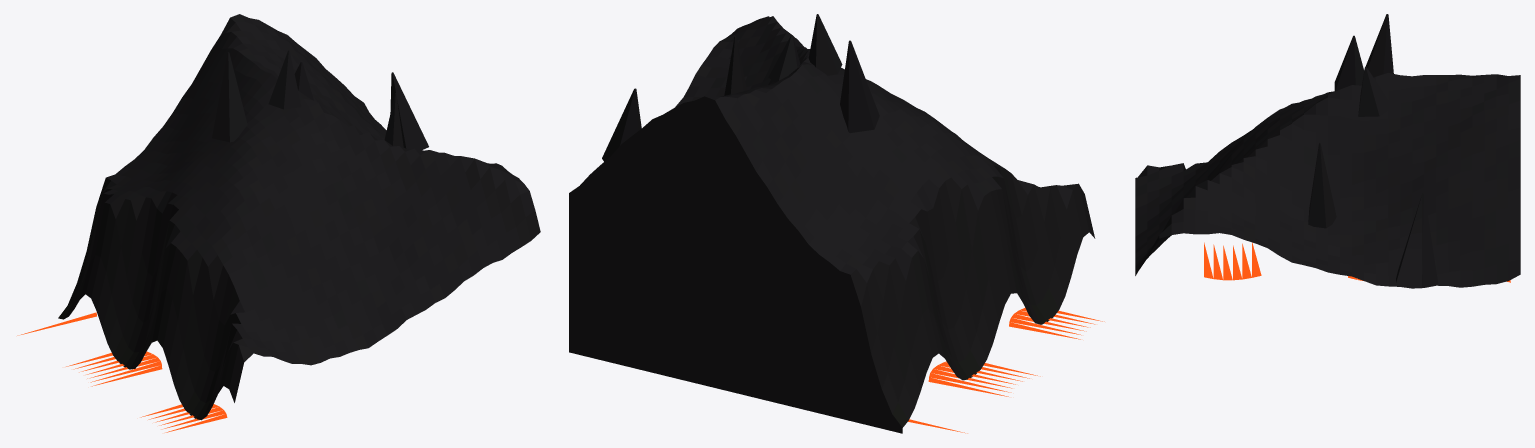
The model's file is chunk-4-0.glb.
The picture shows the model from 3 angles, left to right: view 1: azimuth 30°, elevation 25°; view 2: azimuth 150°, elevation 25°; view 3: azimuth 270°, elevation 25°; orthographic projection. The views are drawn at different scales.
Visible parts, largest first — view 1: Mountain_Rock, Cliff_Rock, Lava, Ash_Ground; view 2: Cliff_Rock, Mountain_Rock, Lava, Ash_Ground; view 3: Mountain_Rock, Lava.
Boxes of the visible parts, box(x1,y1,x2,y2) form: Mountain_Rock: box(102, 14, 535, 365); Cliff_Rock: box(64, 159, 540, 419); Lava: box(17, 312, 227, 432); Ash_Ground: box(58, 303, 210, 420); Cliff_Rock: box(569, 96, 1095, 433); Mountain_Rock: box(602, 14, 1078, 282); Lava: box(908, 308, 1104, 433); Ash_Ground: box(892, 288, 1058, 427); Mountain_Rock: box(1135, 14, 1520, 288); Lava: box(1204, 242, 1510, 282).
Size of the model in its own units: 97.7 by 72.74 by 80.
